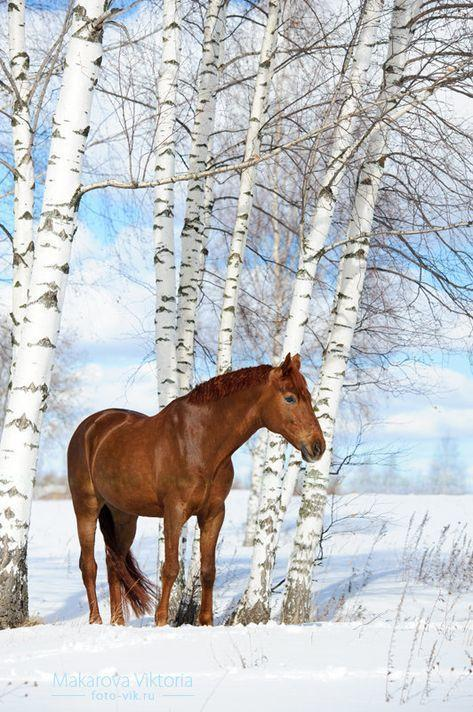horse: (66, 351, 326, 627)
